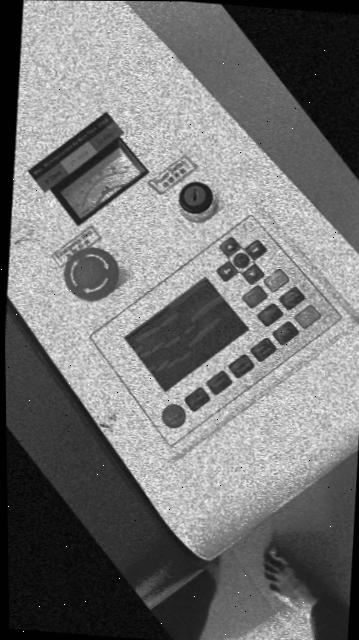Amp_Meter: (51, 139, 146, 224)
Display: (124, 278, 246, 391)
Down_button: (241, 264, 262, 284)
Emergency_Stop: (62, 247, 117, 301)
Enter_button: (263, 269, 287, 291)
Esc_button: (241, 286, 266, 308)
File_button: (272, 321, 297, 344)
Frame_button: (278, 287, 303, 309)
Left_button: (215, 261, 236, 281)
Max-Power_button: (249, 338, 274, 361)
Min-Power_button: (227, 355, 252, 377)
Origin_button: (256, 303, 281, 326)
Power_switch: (178, 182, 211, 214)
Pulse_button: (183, 387, 207, 411)
Reset_button: (161, 404, 184, 427)
Right_button: (244, 239, 264, 260)
Speed_button: (205, 371, 230, 394)
Start-Pause_button: (294, 305, 319, 328)
Up_button: (218, 236, 238, 257)
Z_U_button: (232, 253, 248, 268)
